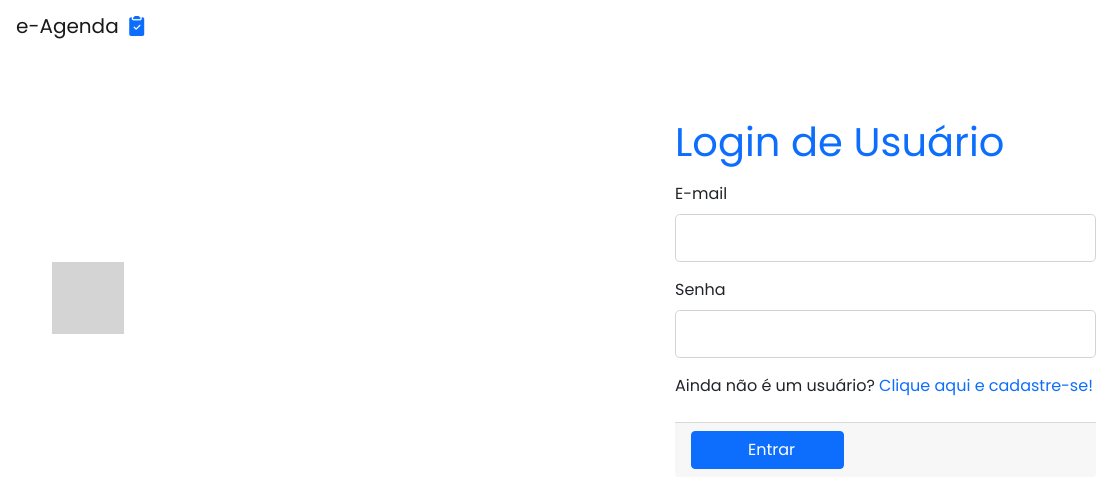
Scenario: Processo de login do usuário › Deve - Validar email vazio
The width and height of the screenshot is (1117, 486).
Focus the field named "email" at [886, 238], box top-left (675, 214), bottom-right (1096, 262)
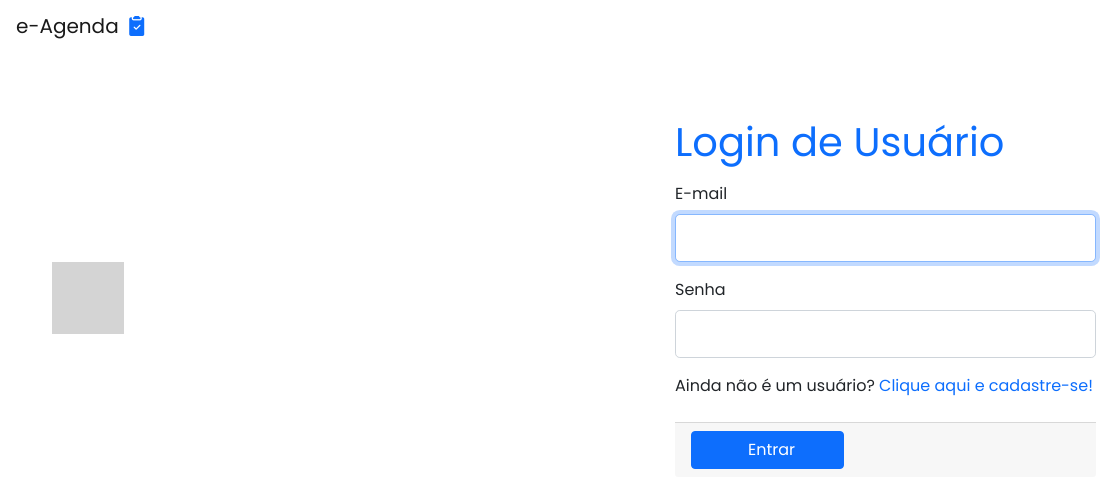
Type "&abc123ABC" into the password field named "senha" at [886, 334], box top-left (675, 310), bottom-right (1096, 358)
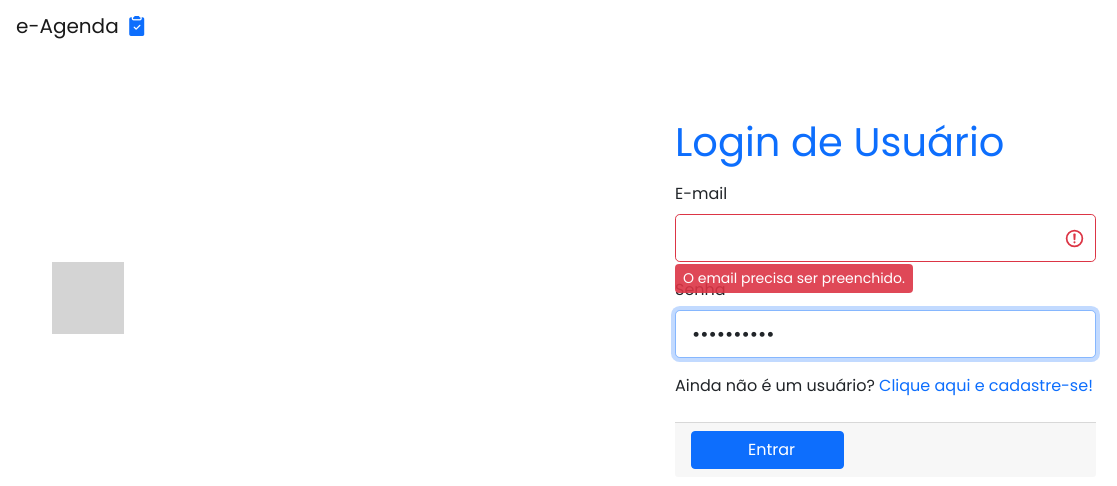
Expected: the text "O email precisa ser preenchido." is shown, top-left (683, 268), bottom-right (905, 288)
